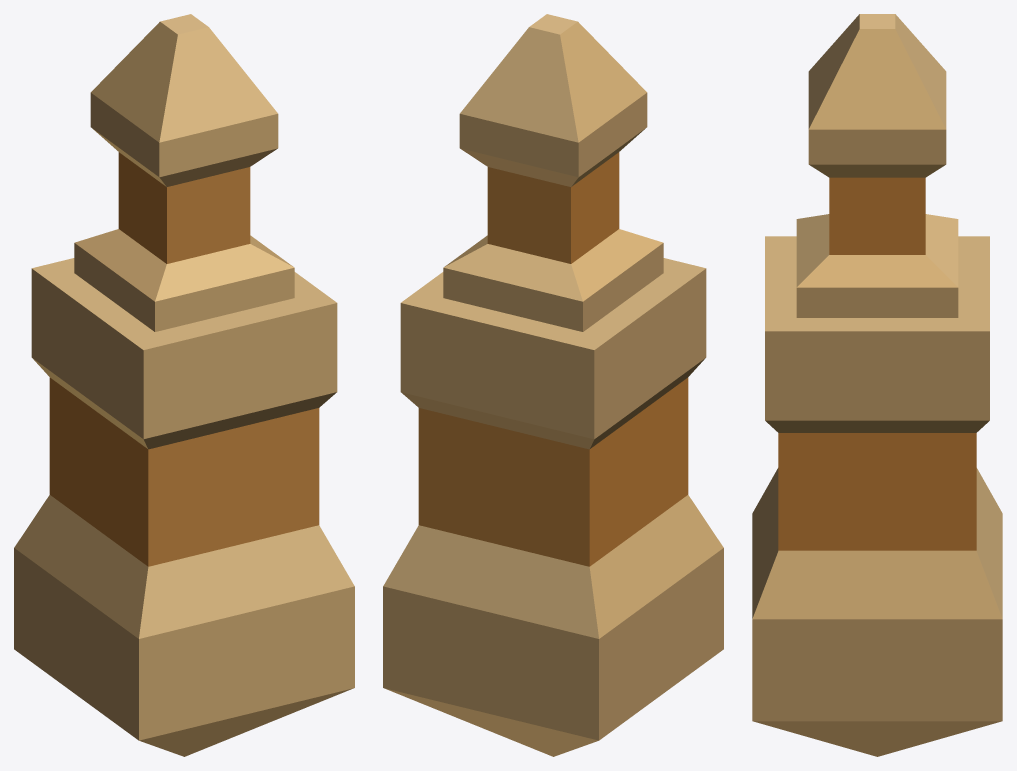
Rendered from ST_Env_Railing_Pillar_03.fbx.
3 renders of one model, left to right at view 1: azimuth 30°, elevation 25°; view 2: azimuth 150°, elevation 25°; view 3: azimuth 270°, elevation 25°, orthographic.
Parts seen in each view (by area): view 1: ST_Env_Railing_Pillar_03; view 2: ST_Env_Railing_Pillar_03; view 3: ST_Env_Railing_Pillar_03.
Boxes of the visible parts, bbox=[...] form: ST_Env_Railing_Pillar_03: bbox=[14, 14, 354, 756]; ST_Env_Railing_Pillar_03: bbox=[383, 14, 723, 756]; ST_Env_Railing_Pillar_03: bbox=[752, 14, 1002, 756].
Size of the model in its own units: 0.798 by 2.59 by 0.798.
